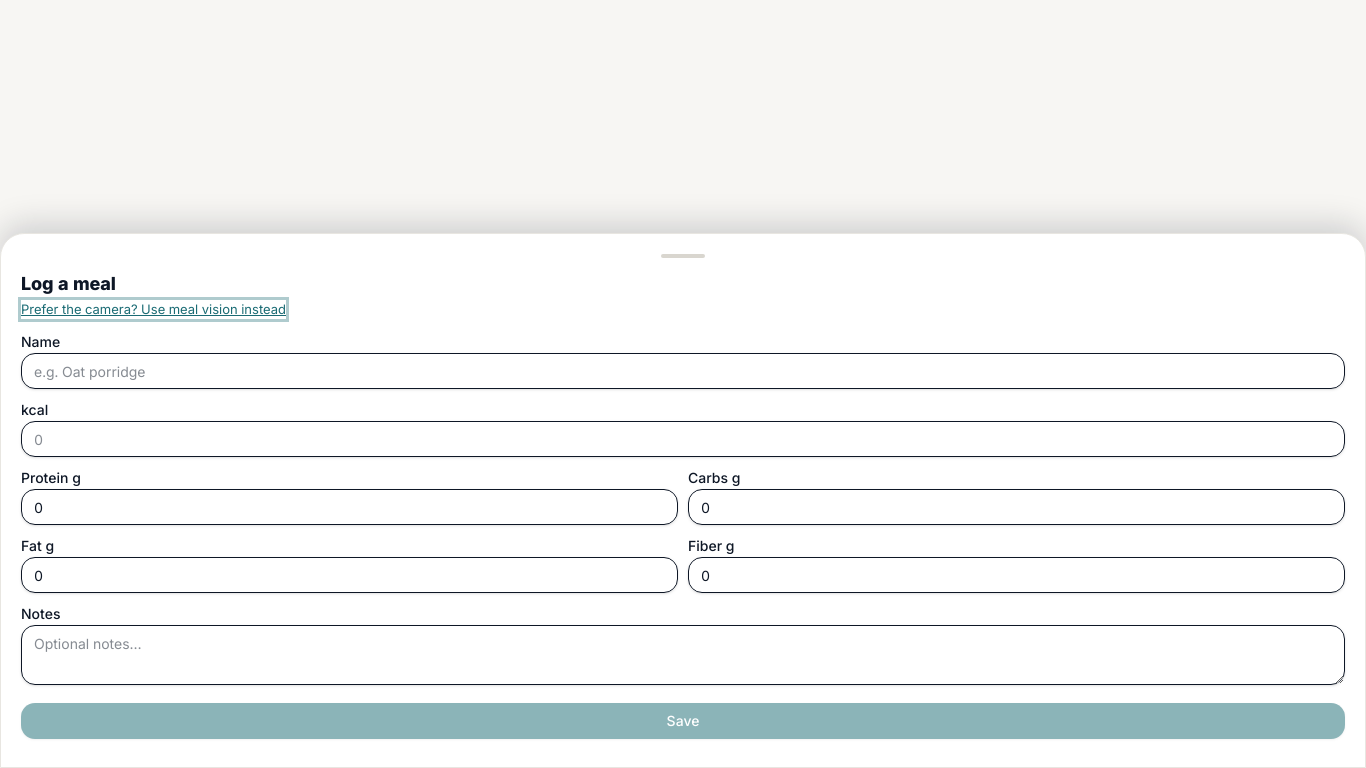
QuickLogMealSheet › shows error message when createManualMealLog fails
The image size is (1366, 768).
Type "Soup" into the field labelled "Name" at (683, 371), box top-left (21, 353), bottom-right (1345, 389)
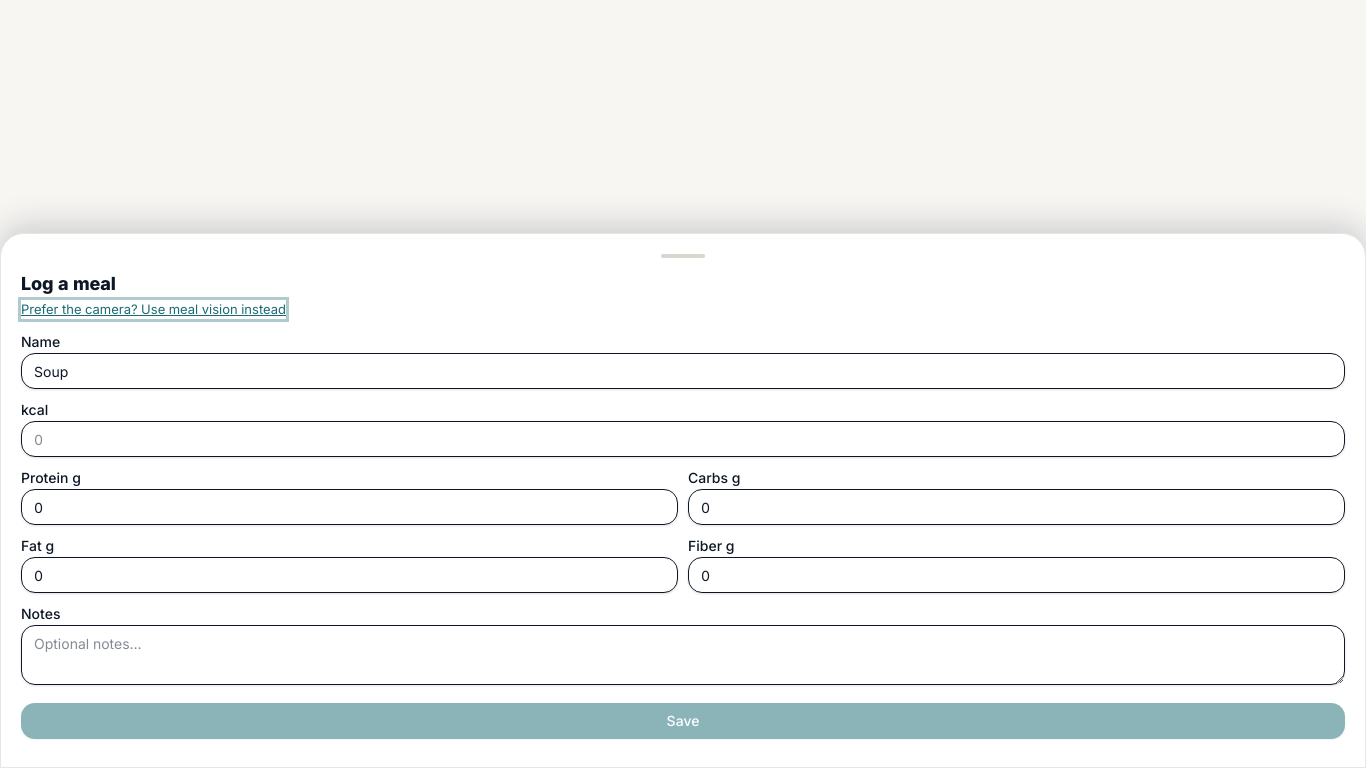
Type "150" into the number field labelled "kcal" at (683, 439), box top-left (21, 421), bottom-right (1345, 457)
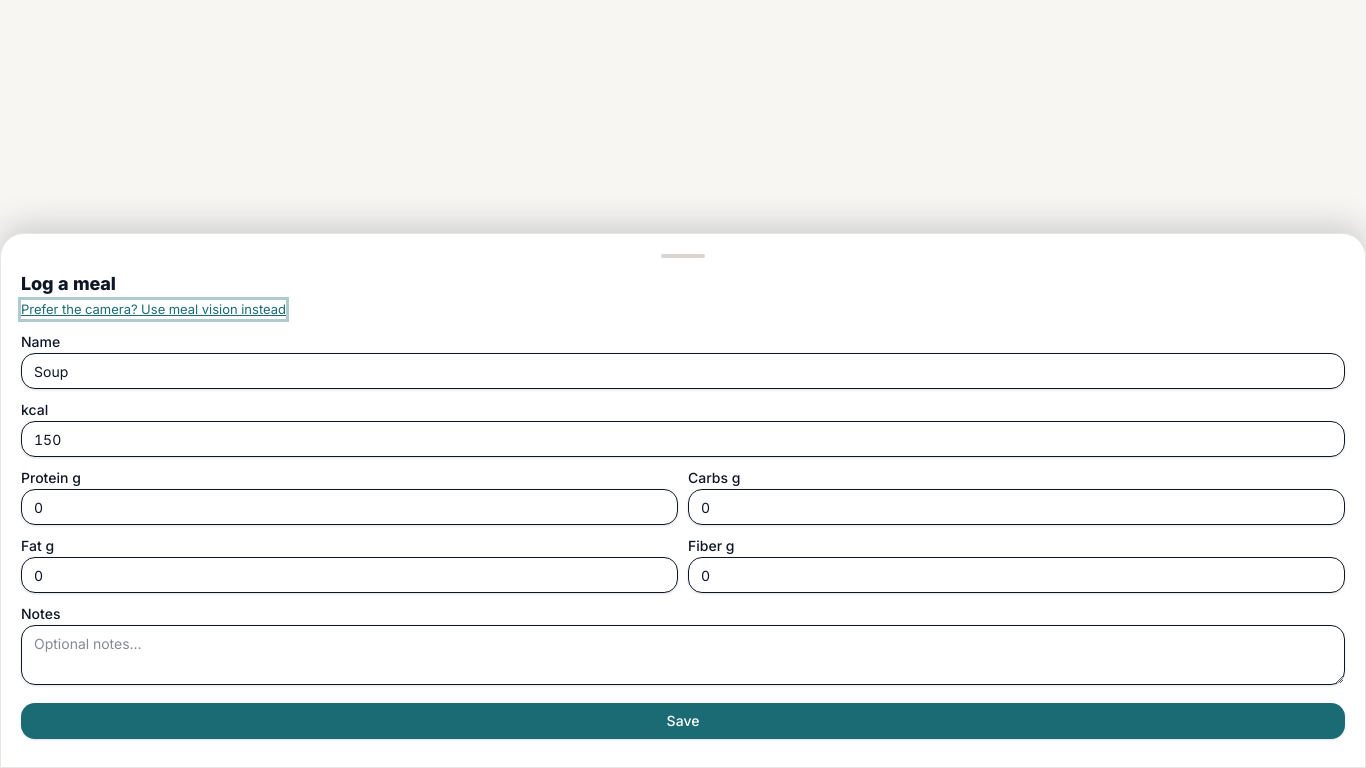
Click the button "Save" at (683, 721), box top-left (21, 703), bottom-right (1345, 739)
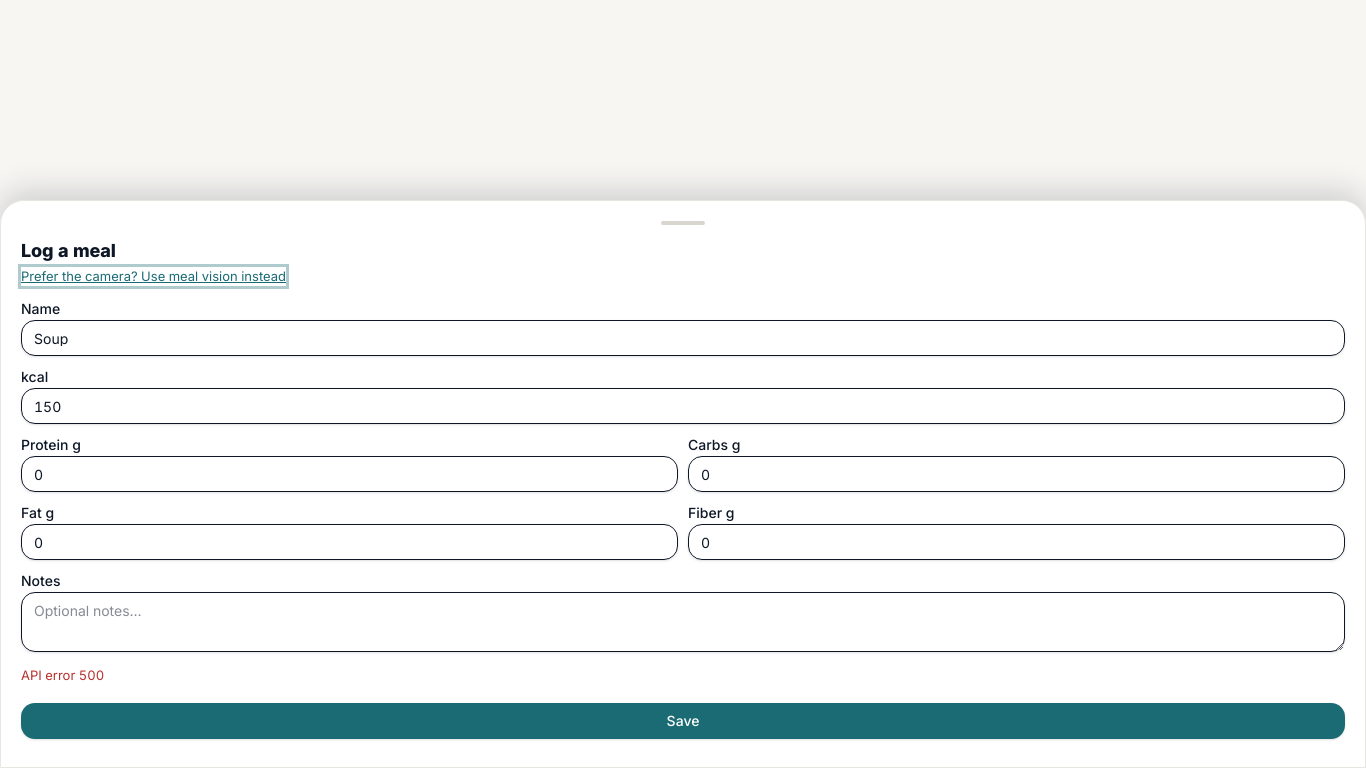
Result: the text "API error 500" is shown at top-left (21, 666), bottom-right (104, 682)
